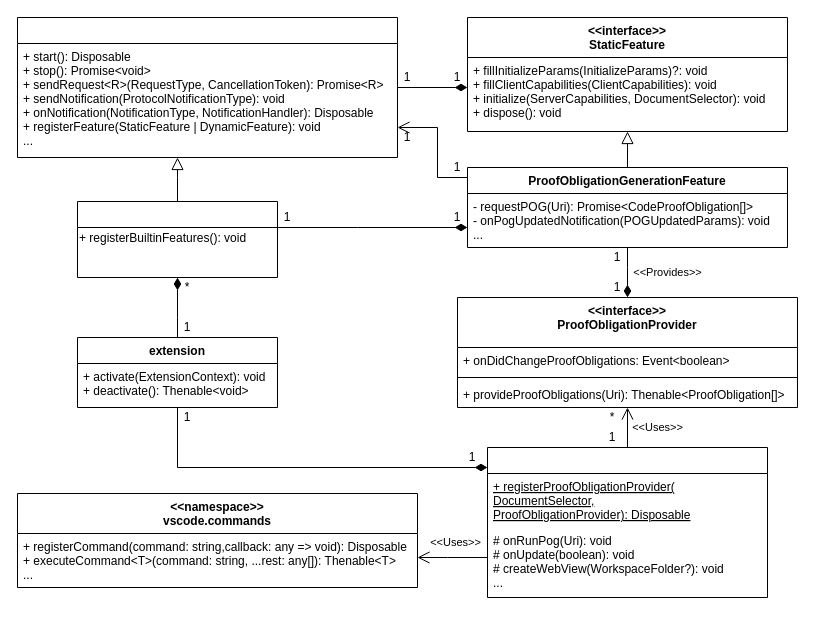
Image size: 815x618. Some labels were removed from this diagram. Each missing label, with the box of its shape:
LanguageClient: (16, 16, 398, 158)
ProofObligationPanel: (486, 446, 768, 598)
SpecificationLanguageClient: (76, 200, 278, 278)
